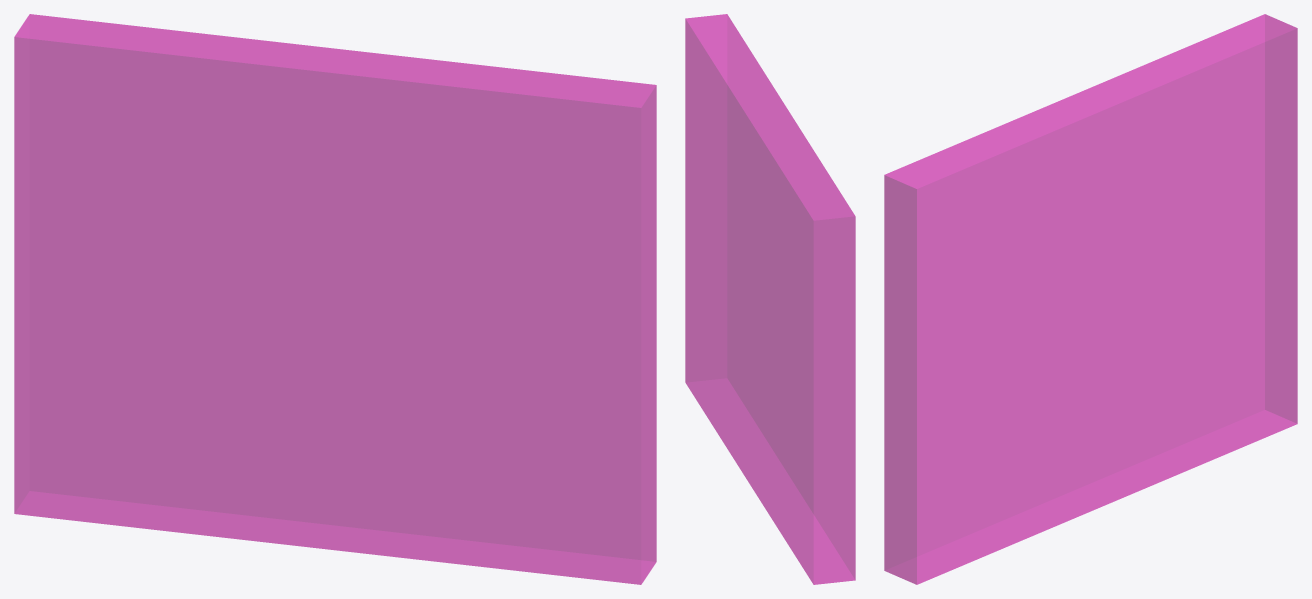
The model's file is SM_Bld_45_Wall_02_Collision.fbx.
3 renders of one model, left to right at view 1: azimuth 30°, elevation 25°; view 2: azimuth 150°, elevation 25°; view 3: azimuth 270°, elevation 25°, orthographic. The views are drawn at different scales.
Visible parts, largest first — view 1: SM_Bld_45_Wall_02_Collision; view 2: SM_Bld_45_Wall_02_Collision; view 3: SM_Bld_45_Wall_02_Collision.
Boxes of the visible parts, left/top/right/bottom form: SM_Bld_45_Wall_02_Collision: left=14, top=14, right=656, bottom=584; SM_Bld_45_Wall_02_Collision: left=685, top=14, right=855, bottom=584; SM_Bld_45_Wall_02_Collision: left=884, top=14, right=1297, bottom=584.
Size of the model in its own units: 287 by 302 by 286.
